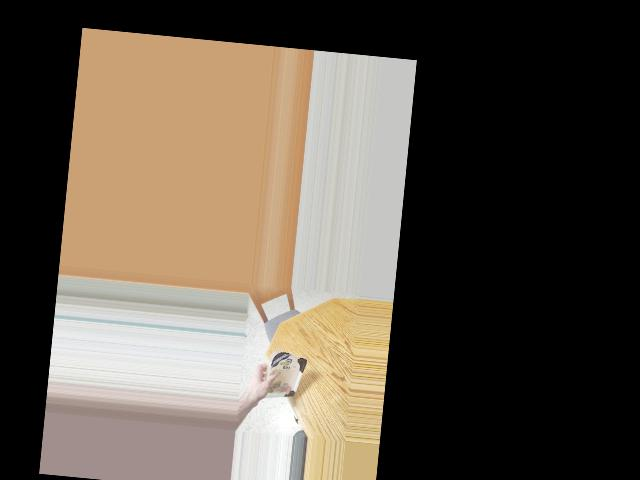cheese: (263, 347, 304, 406)
